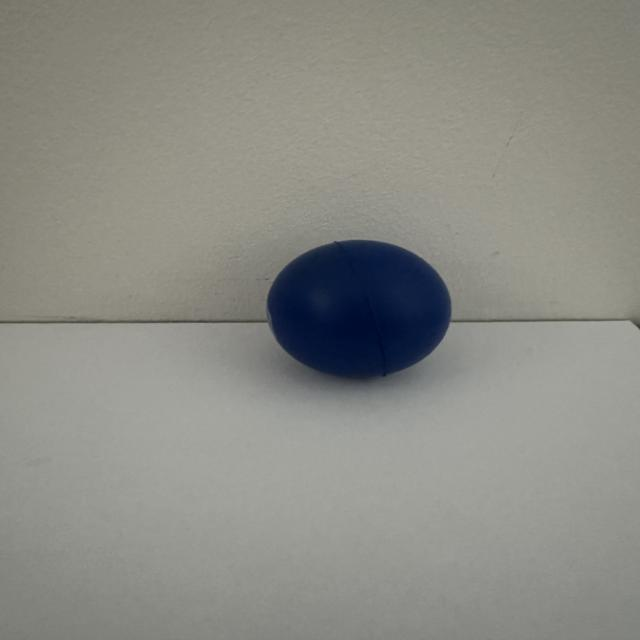blue_ball: (198, 132, 537, 479)
